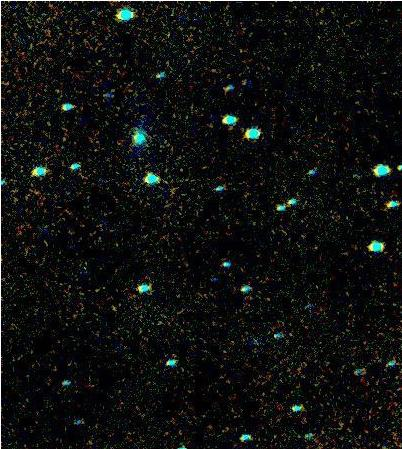star: (103, 333, 133, 363)
